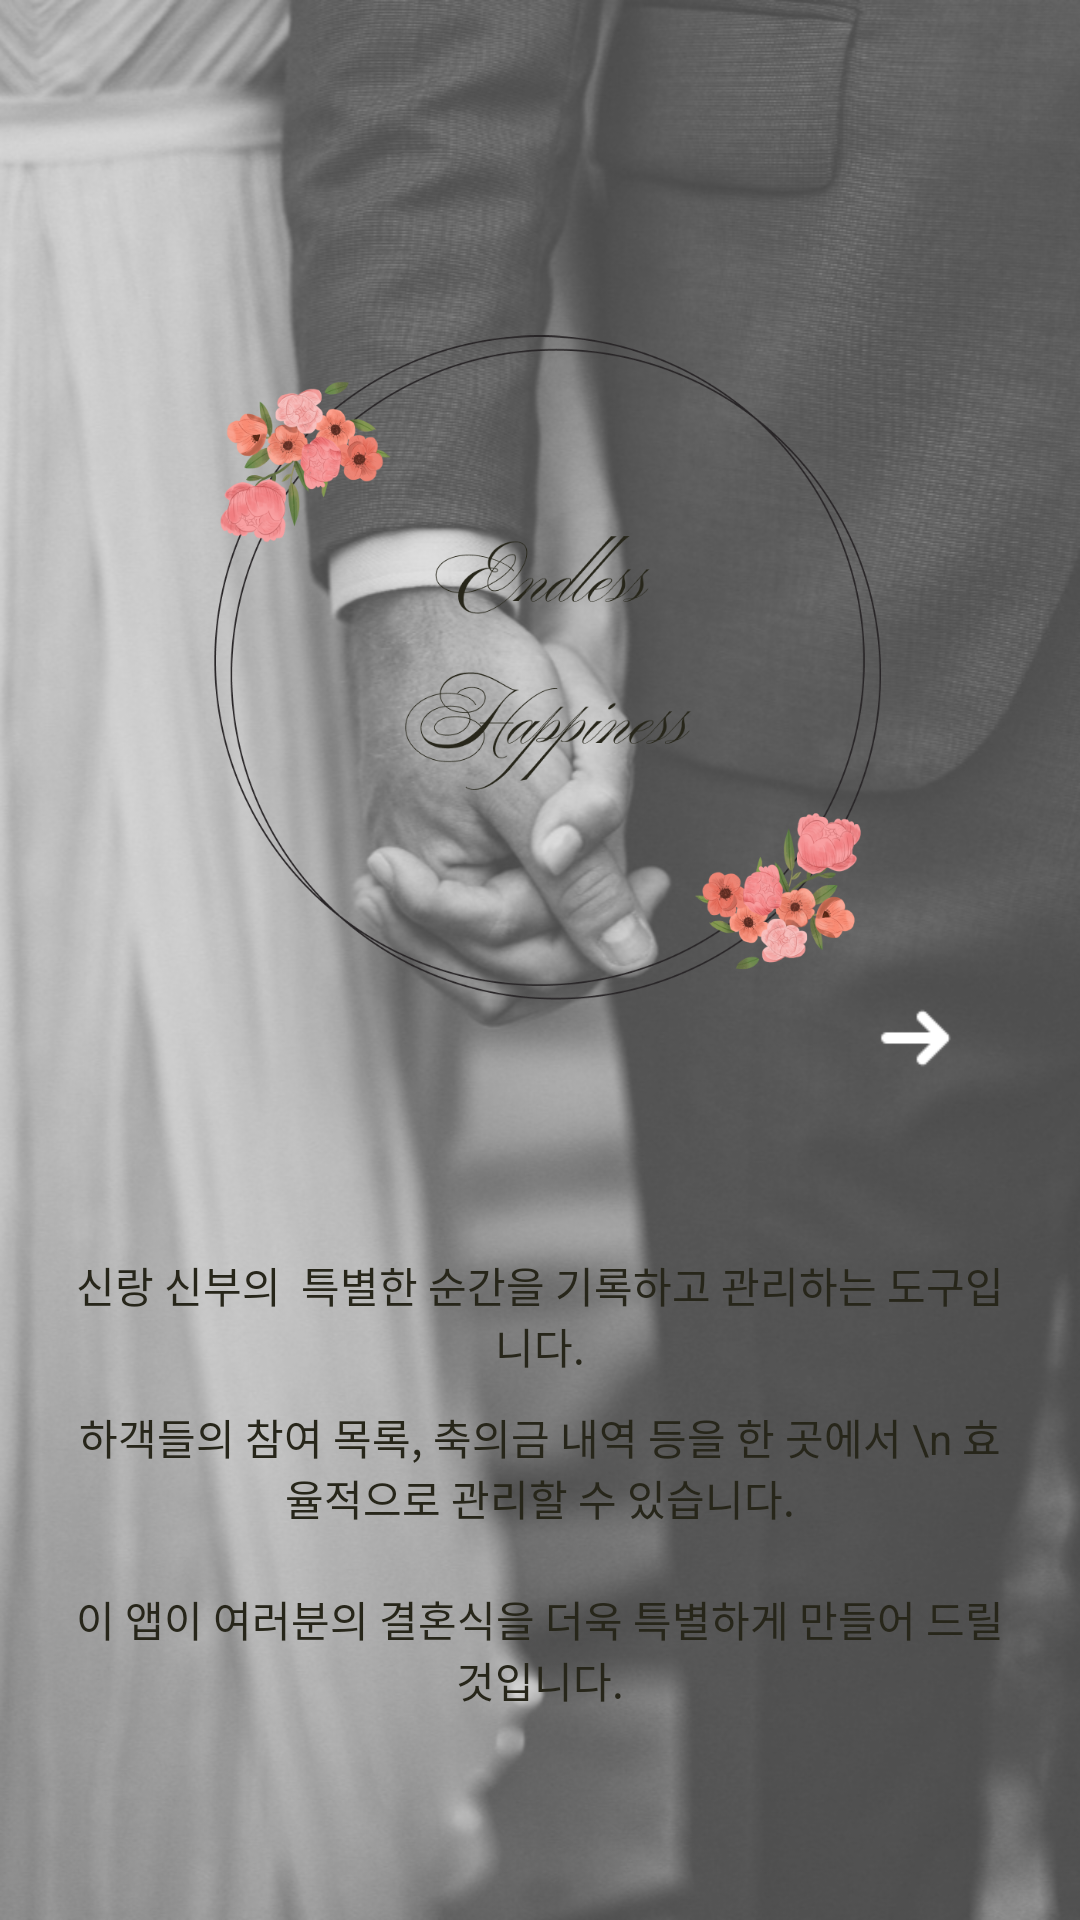

Locate icon controls on the screen. Image size 1080×1920, boxes as box(x1, y1, x2, y2).
next arrow: box(881, 1010, 950, 1066)
